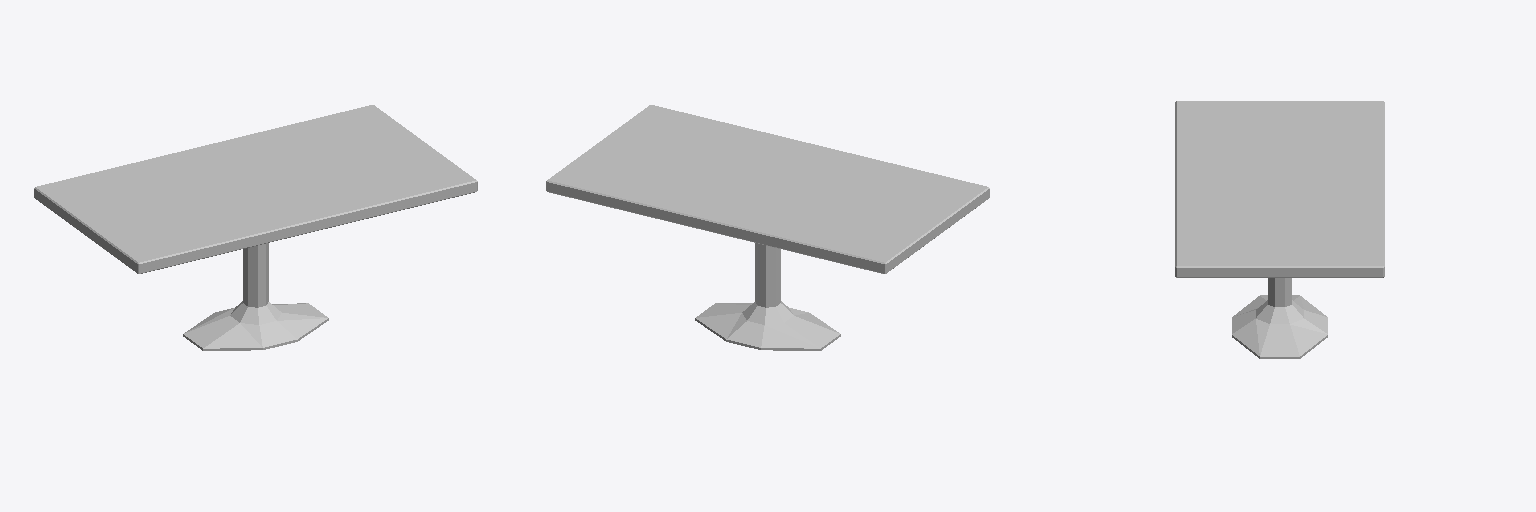
The model's file is table-cafe.obj.
3 renders of one model, left to right at view 1: azimuth 30°, elevation 25°; view 2: azimuth 150°, elevation 25°; view 3: azimuth 270°, elevation 25°, orthographic.
Parts seen in each view (by area): view 1: table_Cube.001; view 2: table_Cube.001; view 3: table_Cube.001.
Boxes of the visible parts, x1,y1,x2,y2 form: table_Cube.001: [34, 105, 477, 350]; table_Cube.001: [546, 105, 989, 350]; table_Cube.001: [1175, 101, 1384, 358].
Bounding box in the file's own units: 1.5 × 0.61 × 0.8.